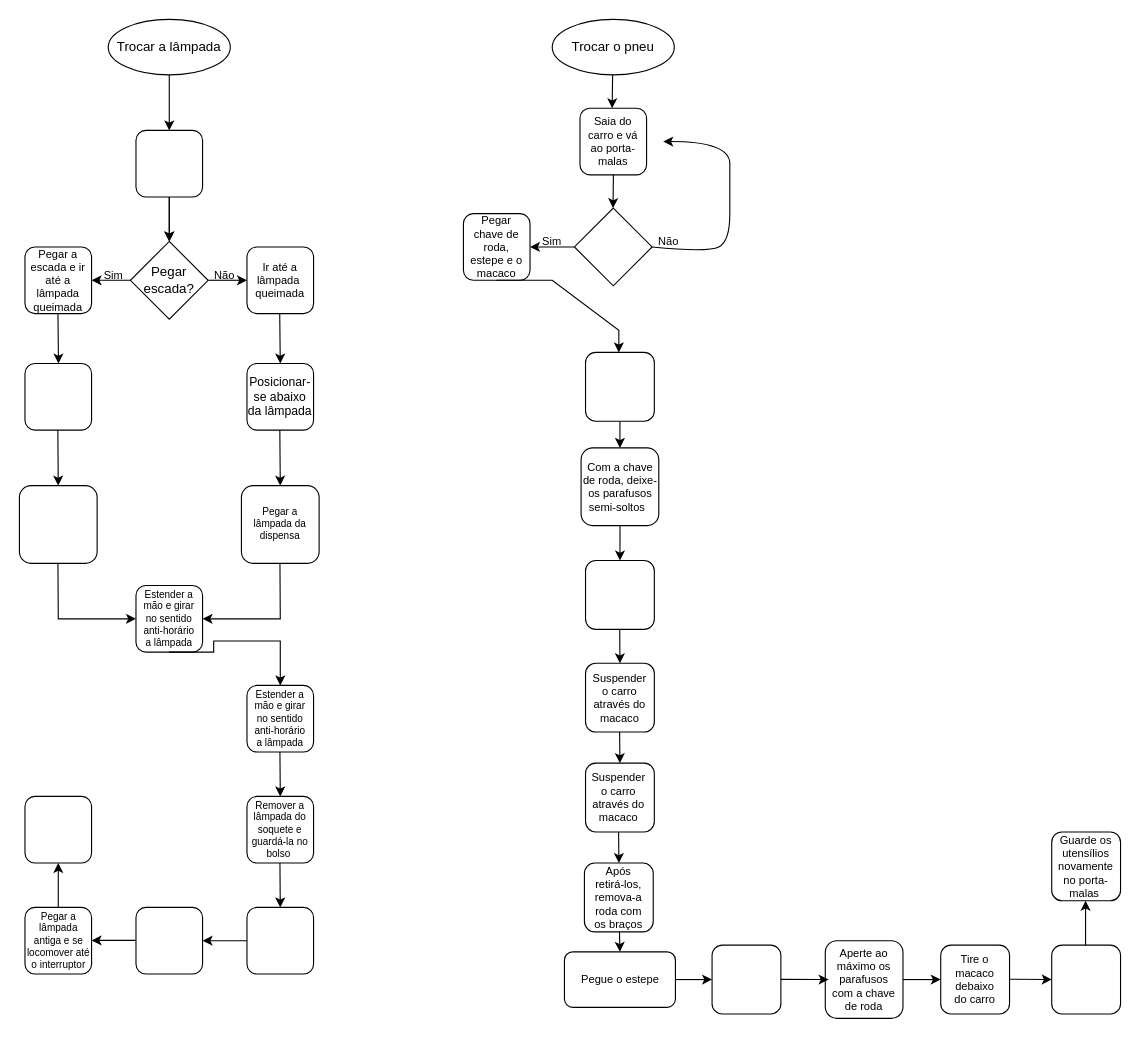
This 1140x1038 diagram has some shape labels left out. Here are the shapes that lost their labels. From the top down, the centre of each, then its label:
the point at 169,163: Desligue o interruptor
the point at 612,246: Foi ao porta-malas?
the point at 58,396: Posicionar e subir a escada abaixo da lâmpada
the point at 619,386: Levar os equipamentos pegos até o pneu furado
the point at 57,524: Pegar a lâmpada nova na dispensa e subir as escadas
the point at 619,594: Soltar a chave de roda e pegar o macaco
the point at 58,829: Fazer o teste de funcionamento ligando o interruptor
the point at 169,940: Girar a lâmpada no sentido horário até rosqueá-la
the point at 280,940: Pegar a nova lâmpada e posiciona-la no soquete
the point at 746,979: Encaixe-o no eixo
the point at 1086,979: Aperte com a chave de roda os parafusos
